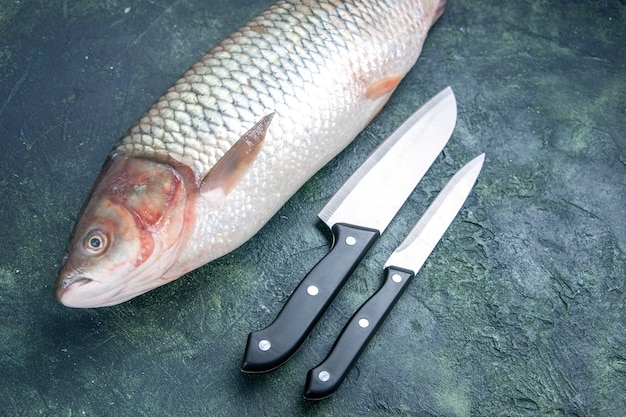knife: (240, 85, 459, 374), (303, 152, 487, 400)
